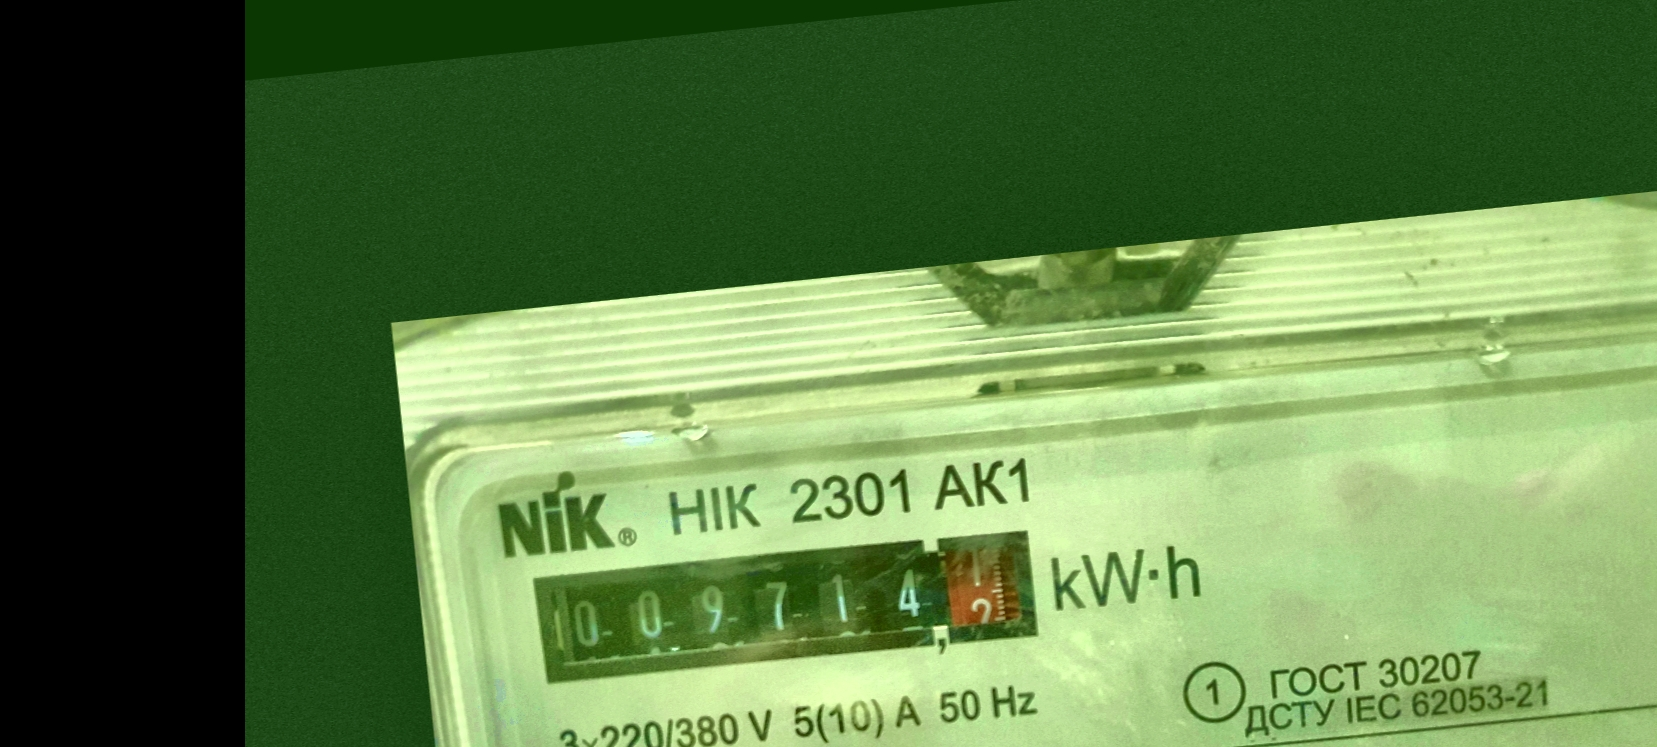0: (569, 594, 604, 650), (633, 584, 665, 640)
1: (827, 567, 855, 625), (966, 545, 985, 589)
2: (968, 592, 995, 625)
4: (891, 564, 925, 621)
7: (763, 577, 794, 633)
9: (696, 580, 729, 635)
screen: (517, 509, 1057, 705)
